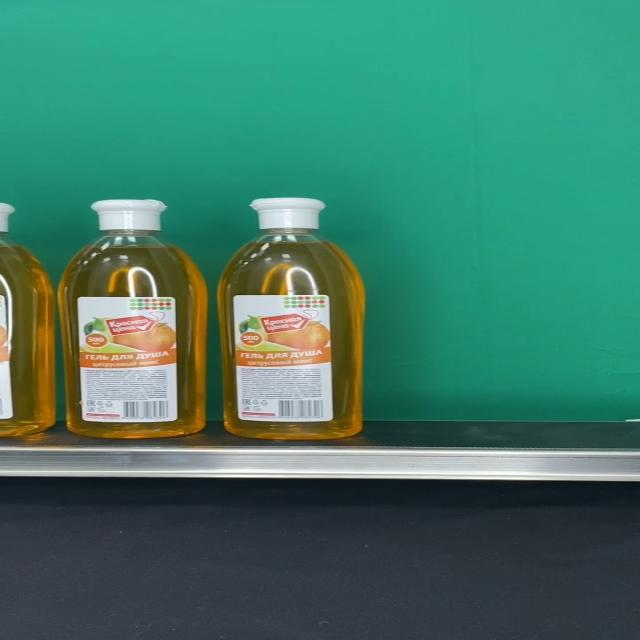Bottle: (58, 199, 208, 439), (218, 197, 365, 439)
Cap: (248, 197, 325, 229), (90, 199, 167, 231)
